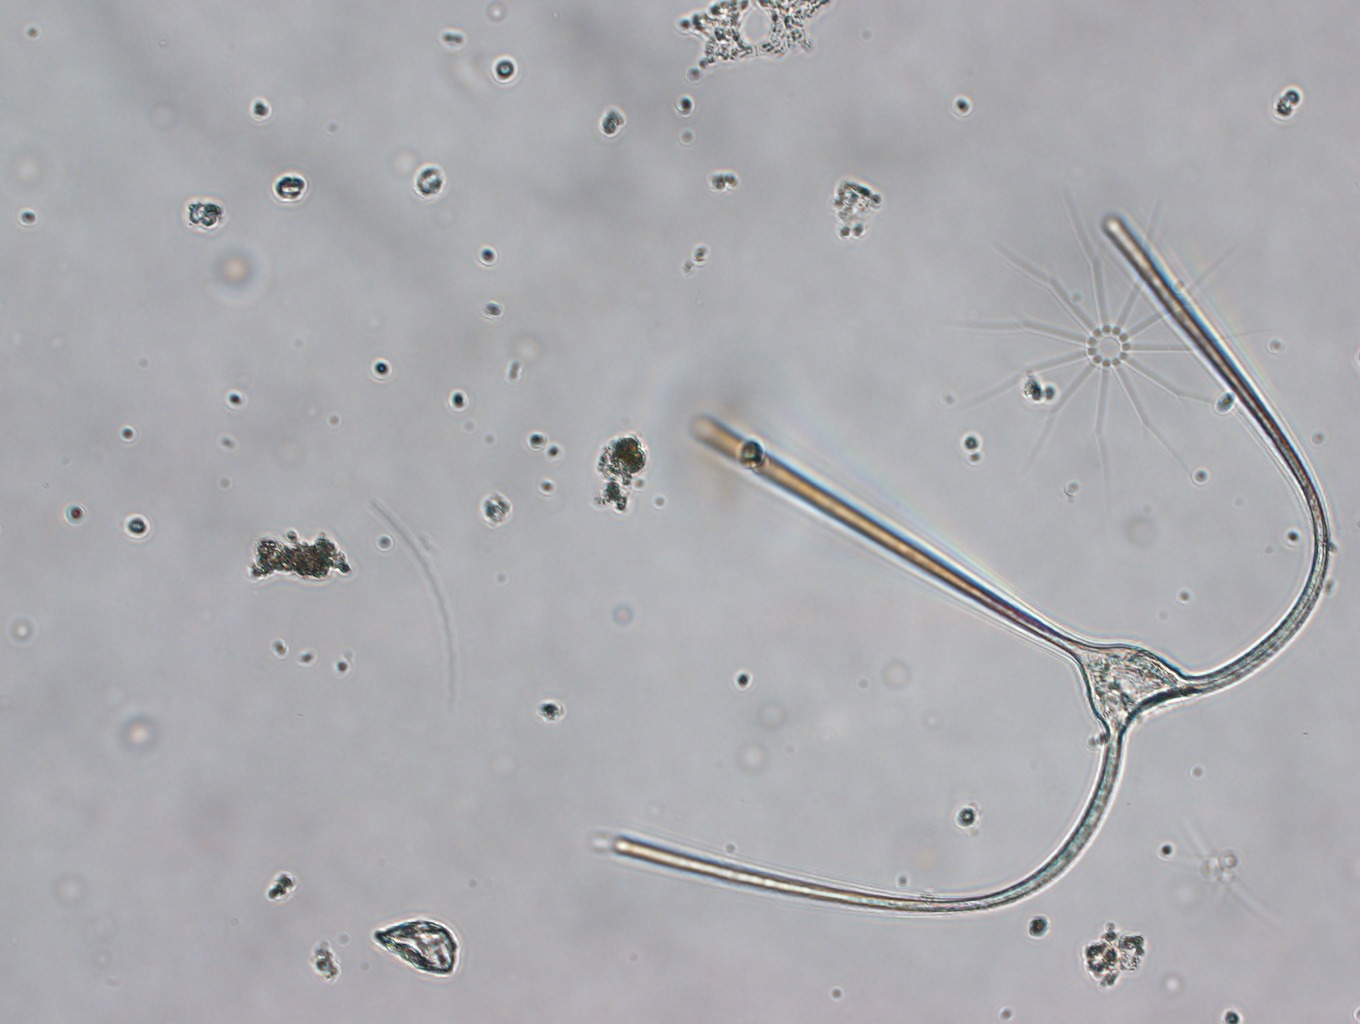bacteriastrum: (945, 153, 1262, 495)
ceratium trichoceros: (584, 194, 1336, 919)
